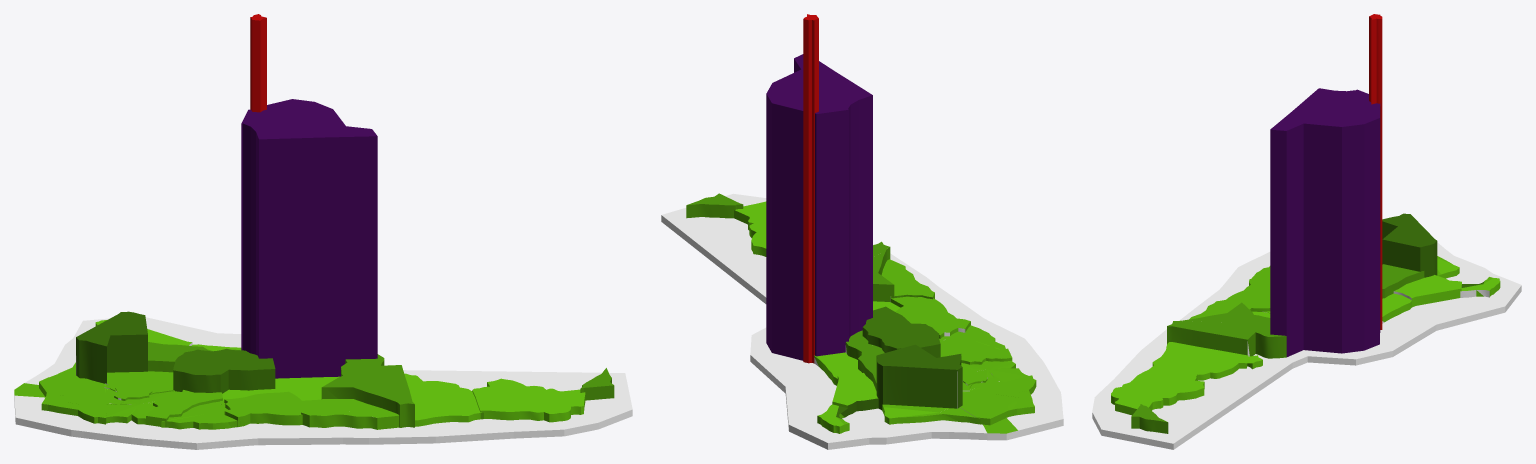
Rendered from mapa.obj.
The picture shows the model from 3 angles, left to right: view 1: azimuth 30°, elevation 25°; view 2: azimuth 150°, elevation 25°; view 3: azimuth 270°, elevation 25°; orthographic projection. The views are drawn at different scales.
Visible parts, largest first — view 1: 0; view 2: 0; view 3: 0.
Boxes of the visible parts, bbox=[...] form: 0: bbox=[14, 14, 632, 449]; 0: bbox=[661, 14, 1063, 449]; 0: bbox=[1092, 14, 1521, 449].
Bounding box in the file's own units: 365 × 239 × 293.
